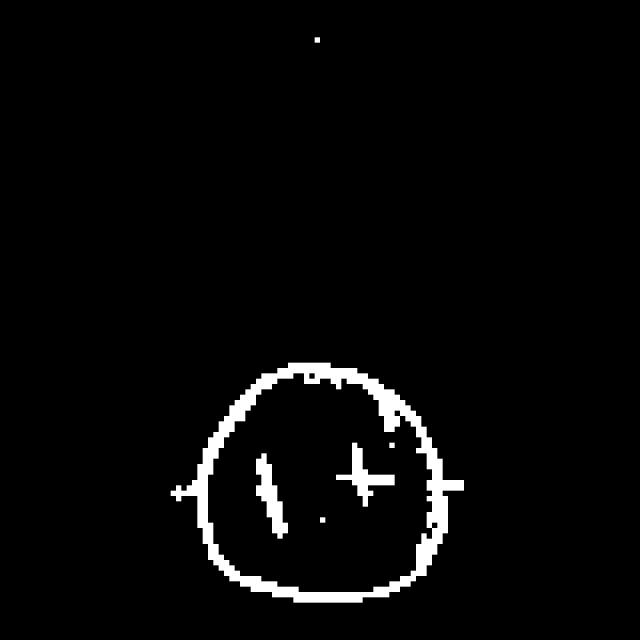voltage_source: (188, 355, 458, 614)
